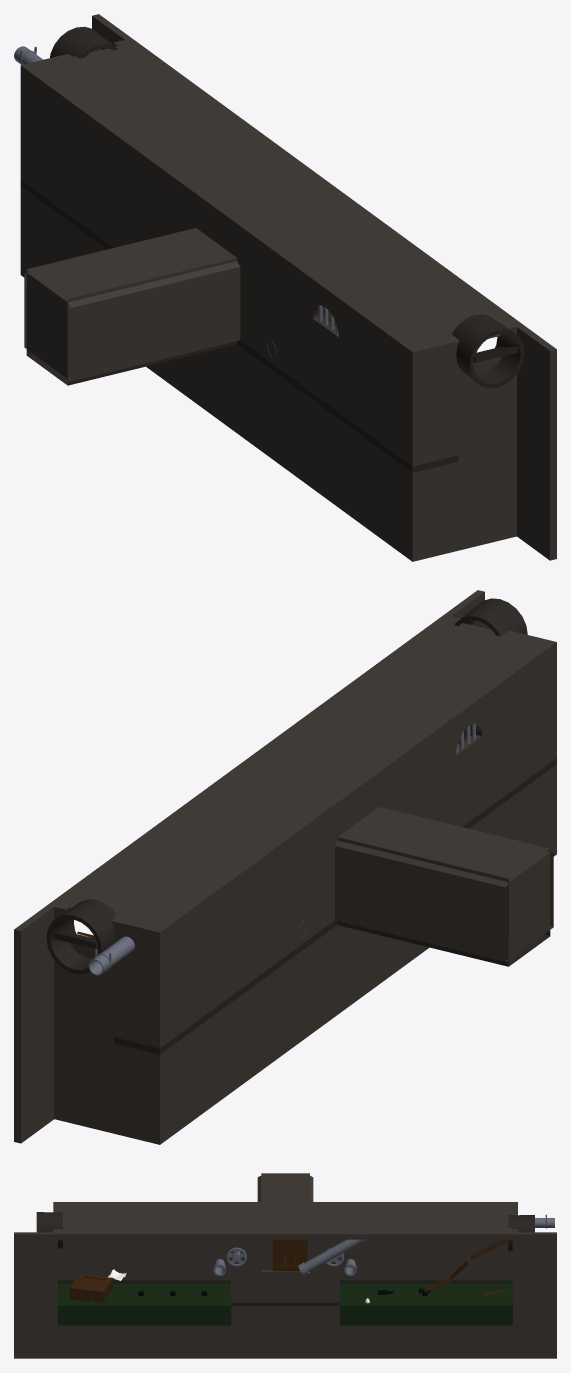
3 views of the same model, one above another, from view 1: azimuth 30°, elevation 25°; view 2: azimuth 150°, elevation 25°; view 3: azimuth 270°, elevation 25° (orthographic). The views are drawn at different scales.
Parts seen in each view (by area): view 1: SewerMain (×2), Sewer_grate_Start, Sewer_grate_End; view 2: SewerMain (×2), Sewer_grate_End, Sewer_grate_Start, BonusPipe2; view 3: SewerMain (×2), Water1, Water2, Box1, Box, BonusPipe, Sewer_grate_Start, Sewer_grate_End, Wheel.
Part boxes in pixels (x1,y1,x2,y2): SewerMain (×2): (20, 14, 556, 561); Sewer_grate_Start: (452, 314, 524, 388); Sewer_grate_End: (50, 26, 117, 58); SewerMain (×2): (14, 590, 556, 1144); Sewer_grate_End: (46, 899, 115, 974); Sewer_grate_Start: (454, 598, 527, 636); BonusPipe2: (88, 936, 134, 975); SewerMain (×2): (14, 1173, 556, 1358); Water1: (339, 1283, 512, 1325); Water2: (57, 1283, 231, 1325); Box1: (272, 1239, 307, 1271); Box: (70, 1274, 113, 1303); BonusPipe: (298, 1239, 366, 1275); Sewer_grate_Start: (36, 1212, 62, 1248); Sewer_grate_End: (508, 1215, 534, 1251); Wheel: (226, 1247, 246, 1266).
Bounding box in the file's own units: 0.5042 × 0.3846 × 1.42.
